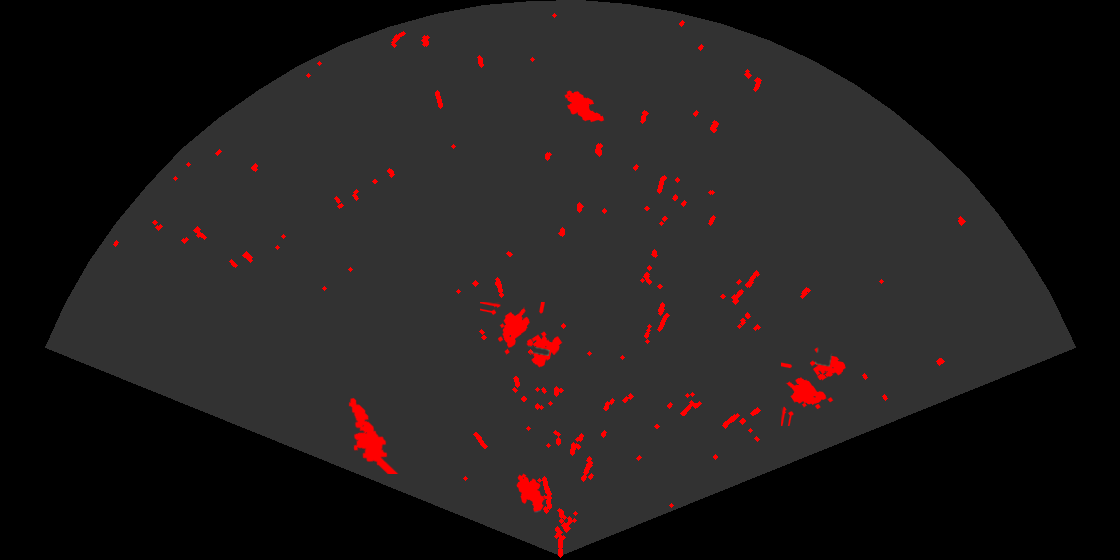AUV: (563, 89, 606, 124), (515, 472, 546, 513)
cage: (480, 302, 564, 369), (781, 346, 847, 426)
frogman: (347, 396, 400, 474)
